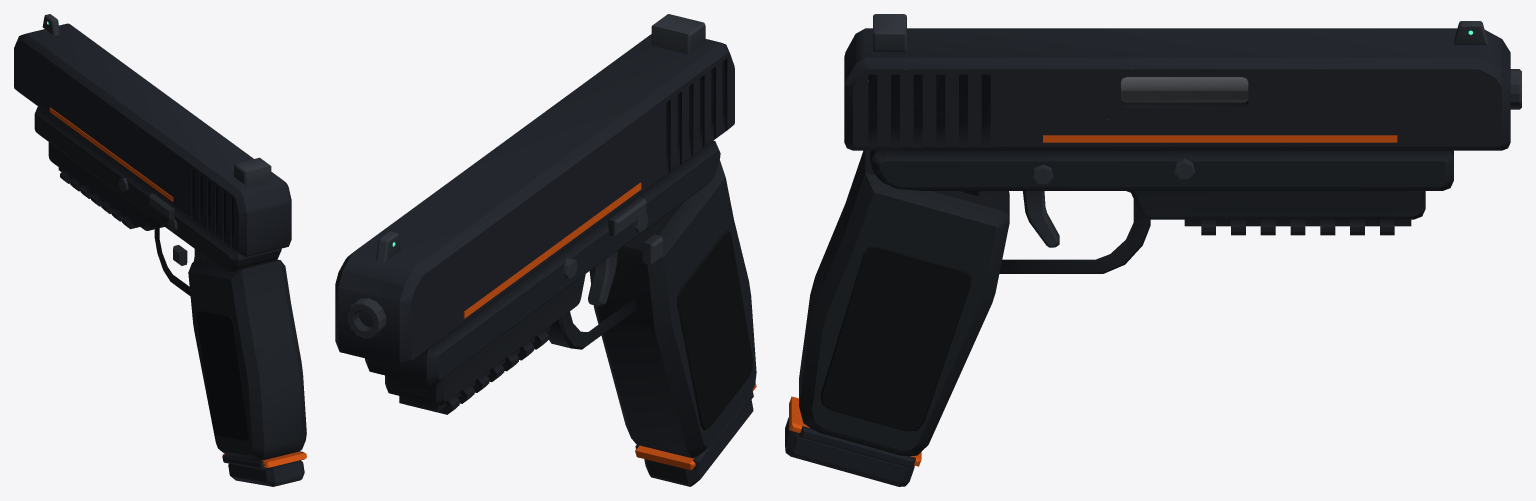
File: glock-17.glb
3 renders of one model, left to right at view 1: azimuth 30°, elevation 25°; view 2: azimuth 150°, elevation 25°; view 3: azimuth 270°, elevation 25°, orthographic. The views are drawn at different scales.
Visible parts, largest first — view 1: bolt_frame2, body_furn, body_rubber, mag_frame2, bolt_steel, body_steel, bolt_accent, mag_accent, body_frame2; view 2: bolt_frame2, body_furn, body_rubber, body_steel, bolt_steel, mag_frame2, bolt_accent, mag_accent, body_frame2; view 3: bolt_frame2, body_furn, body_rubber, bolt_bolt, mag_frame2, bolt_accent, body_steel, bolt_steel, body_frame2.
Part boxes in pixels (x1,y1,x2,y2): bolt_frame2: (14, 23, 291, 257); body_furn: (34, 106, 306, 461); body_rubber: (196, 310, 249, 441); mag_frame2: (228, 460, 304, 486); bolt_steel: (42, 14, 271, 185); body_steel: (118, 178, 207, 265); bolt_accent: (49, 107, 173, 201); mag_accent: (222, 451, 306, 467); body_frame2: (222, 451, 304, 469); bolt_frame2: (335, 34, 734, 366); body_furn: (365, 140, 756, 458); body_rubber: (677, 230, 752, 430); body_steel: (347, 197, 662, 338); bolt_steel: (376, 14, 705, 262); mag_frame2: (644, 400, 753, 486); bolt_accent: (463, 182, 641, 318); mag_accent: (635, 382, 756, 470); body_frame2: (635, 391, 753, 469); bolt_frame2: (844, 28, 1510, 150); body_furn: (799, 150, 1453, 456); body_rubber: (820, 246, 971, 431); bolt_bolt: (1121, 69, 1248, 102); mag_frame2: (785, 417, 914, 486); bolt_accent: (1043, 135, 1397, 142); body_steel: (1023, 69, 1521, 247); bolt_steel: (873, 14, 1487, 51); body_frame2: (799, 426, 915, 468).
Size of the model in its own units: 0.0355 by 0.177 by 0.26.
